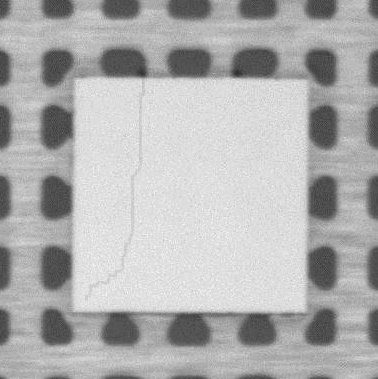DIE_CRACK: (84, 81, 146, 302)
